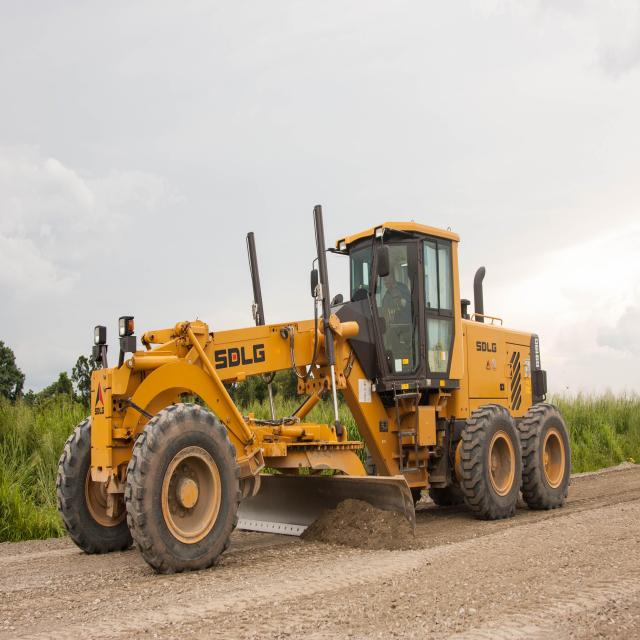Grader: (52, 194, 572, 567)
